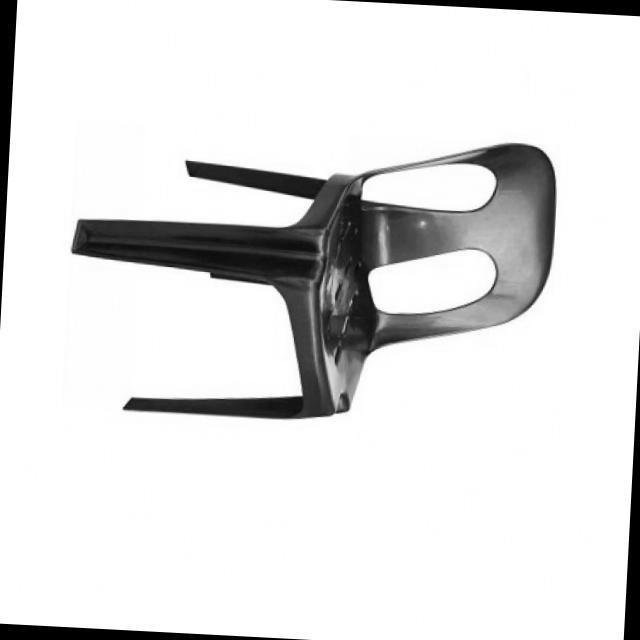chair: (59, 119, 564, 445)
